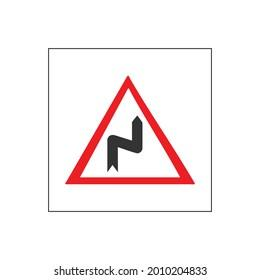Right Reverse Bend: (69, 71, 193, 192)
